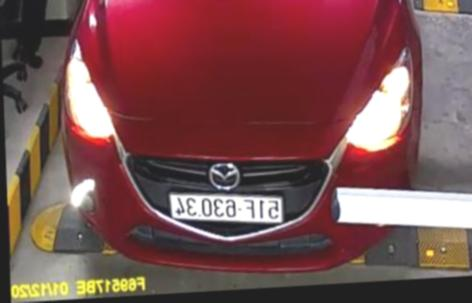License_Plate: (170, 190, 286, 227)
